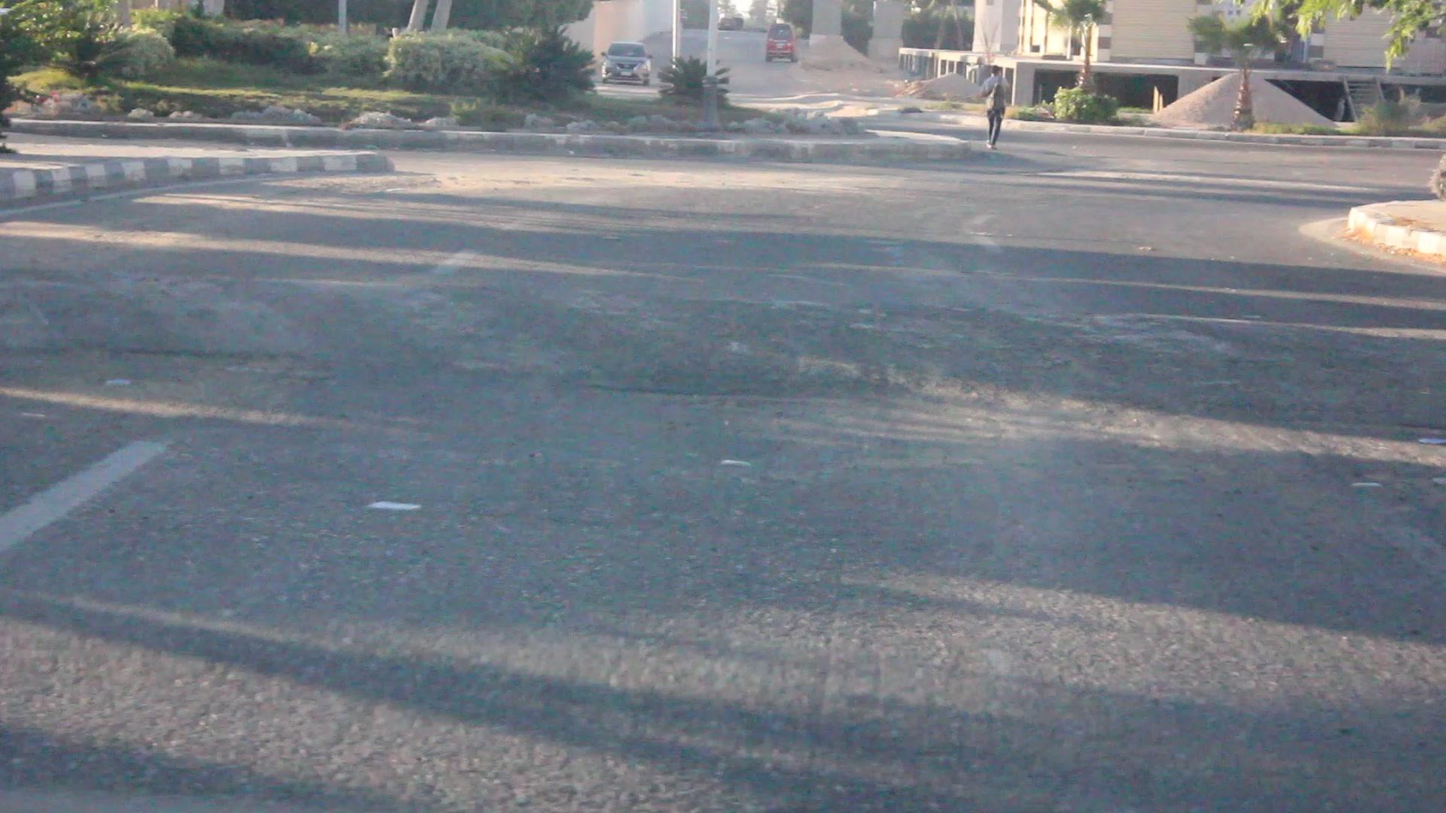Bump: (0, 271, 1446, 388)
